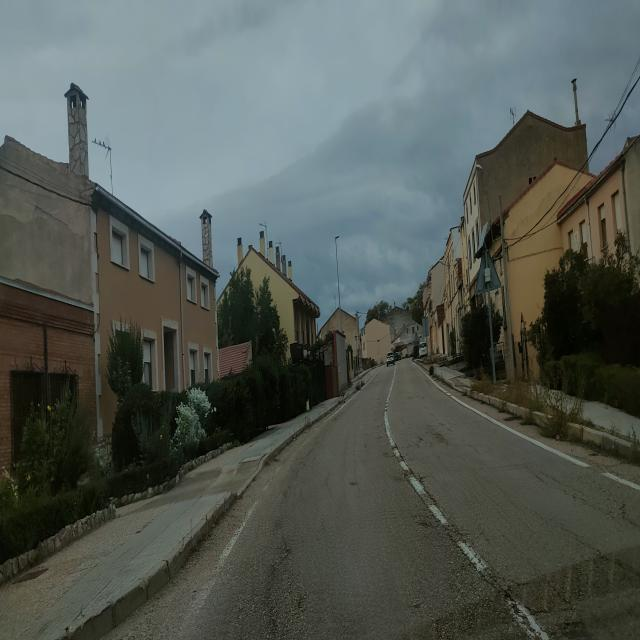Poth-hole: (376, 422, 464, 550), (500, 571, 537, 630), (560, 599, 592, 640), (617, 496, 632, 522)
